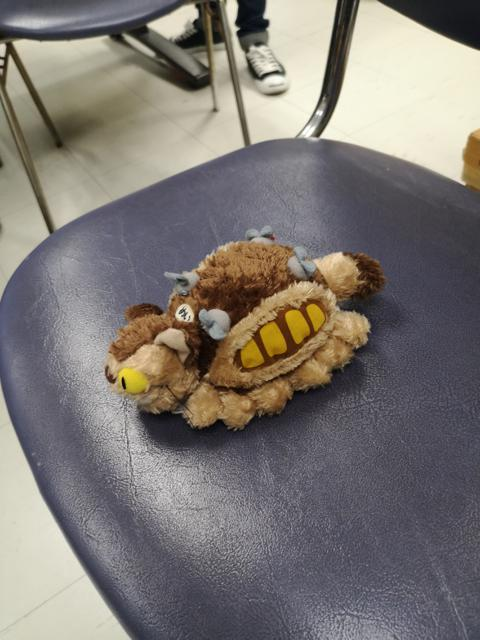nekobus: (96, 221, 389, 435)
